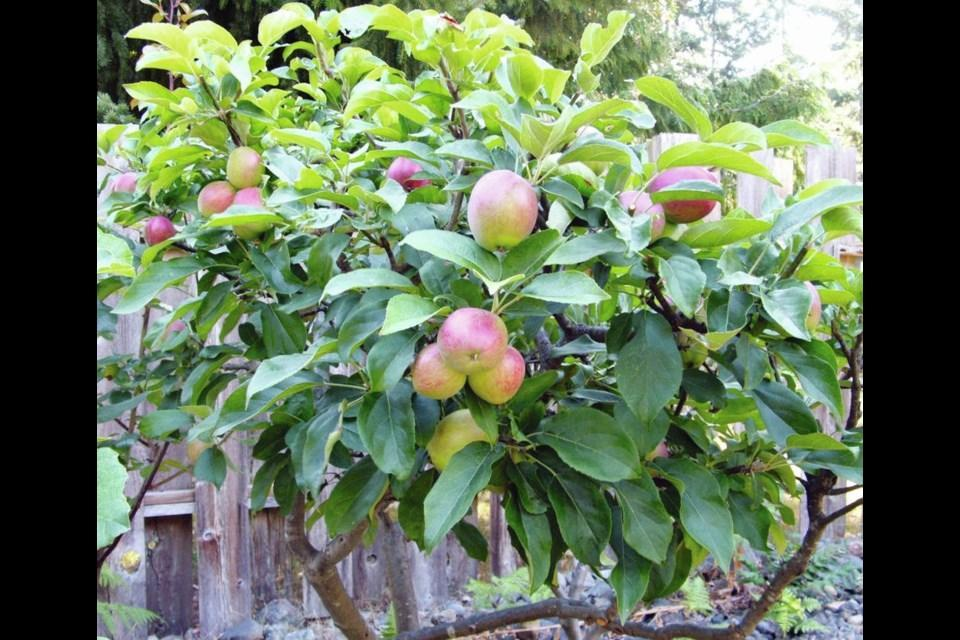apple: (465, 169, 539, 252), (642, 165, 720, 222), (427, 406, 491, 473), (436, 307, 504, 368), (466, 348, 525, 405), (412, 341, 464, 402), (224, 146, 263, 189), (196, 179, 235, 217), (142, 215, 176, 248), (234, 185, 267, 211)
